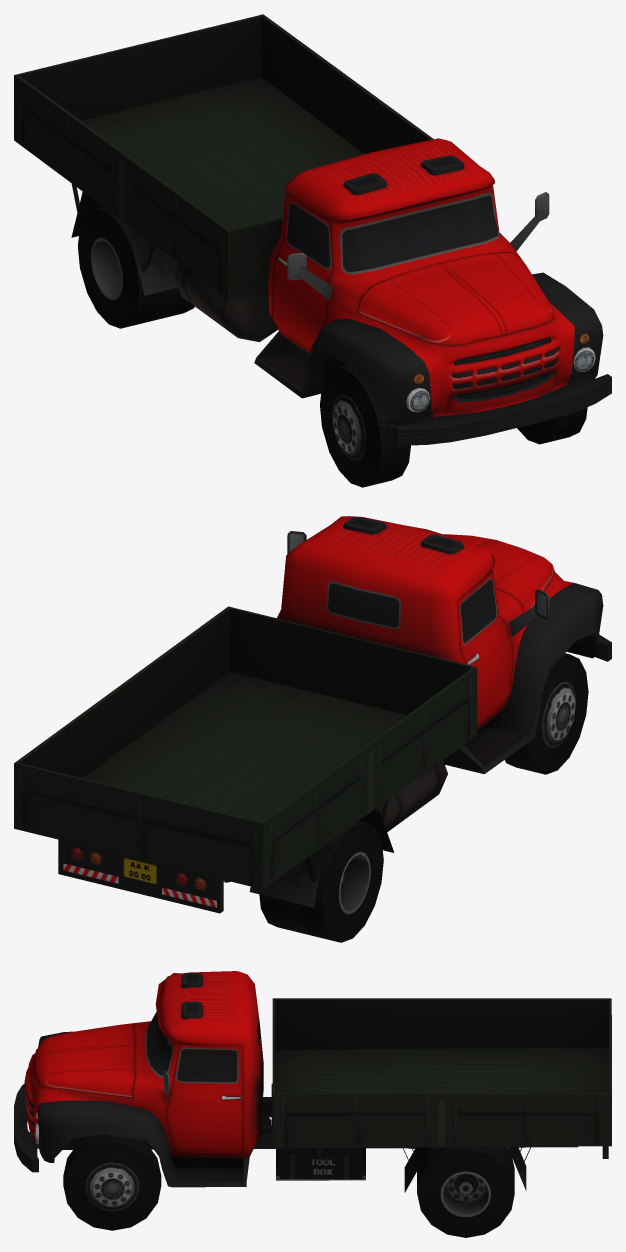
File: SmallTruck_1.FBX
The picture shows the model from 3 angles, top to bottom: view 1: azimuth 30°, elevation 25°; view 2: azimuth 150°, elevation 25°; view 3: azimuth 270°, elevation 25°; orthographic projection. The views are drawn at different scales.
Visible parts, largest first — view 1: SmallTruck; view 2: SmallTruck; view 3: SmallTruck.
Boxes of the visible parts, <box> form: SmallTruck: <box>14,14,611,487</box>; SmallTruck: <box>14,516,611,942</box>; SmallTruck: <box>14,971,611,1237</box>.
Bounding box in the file's own units: 332 × 304 × 832.
1 material, 1 textured.
